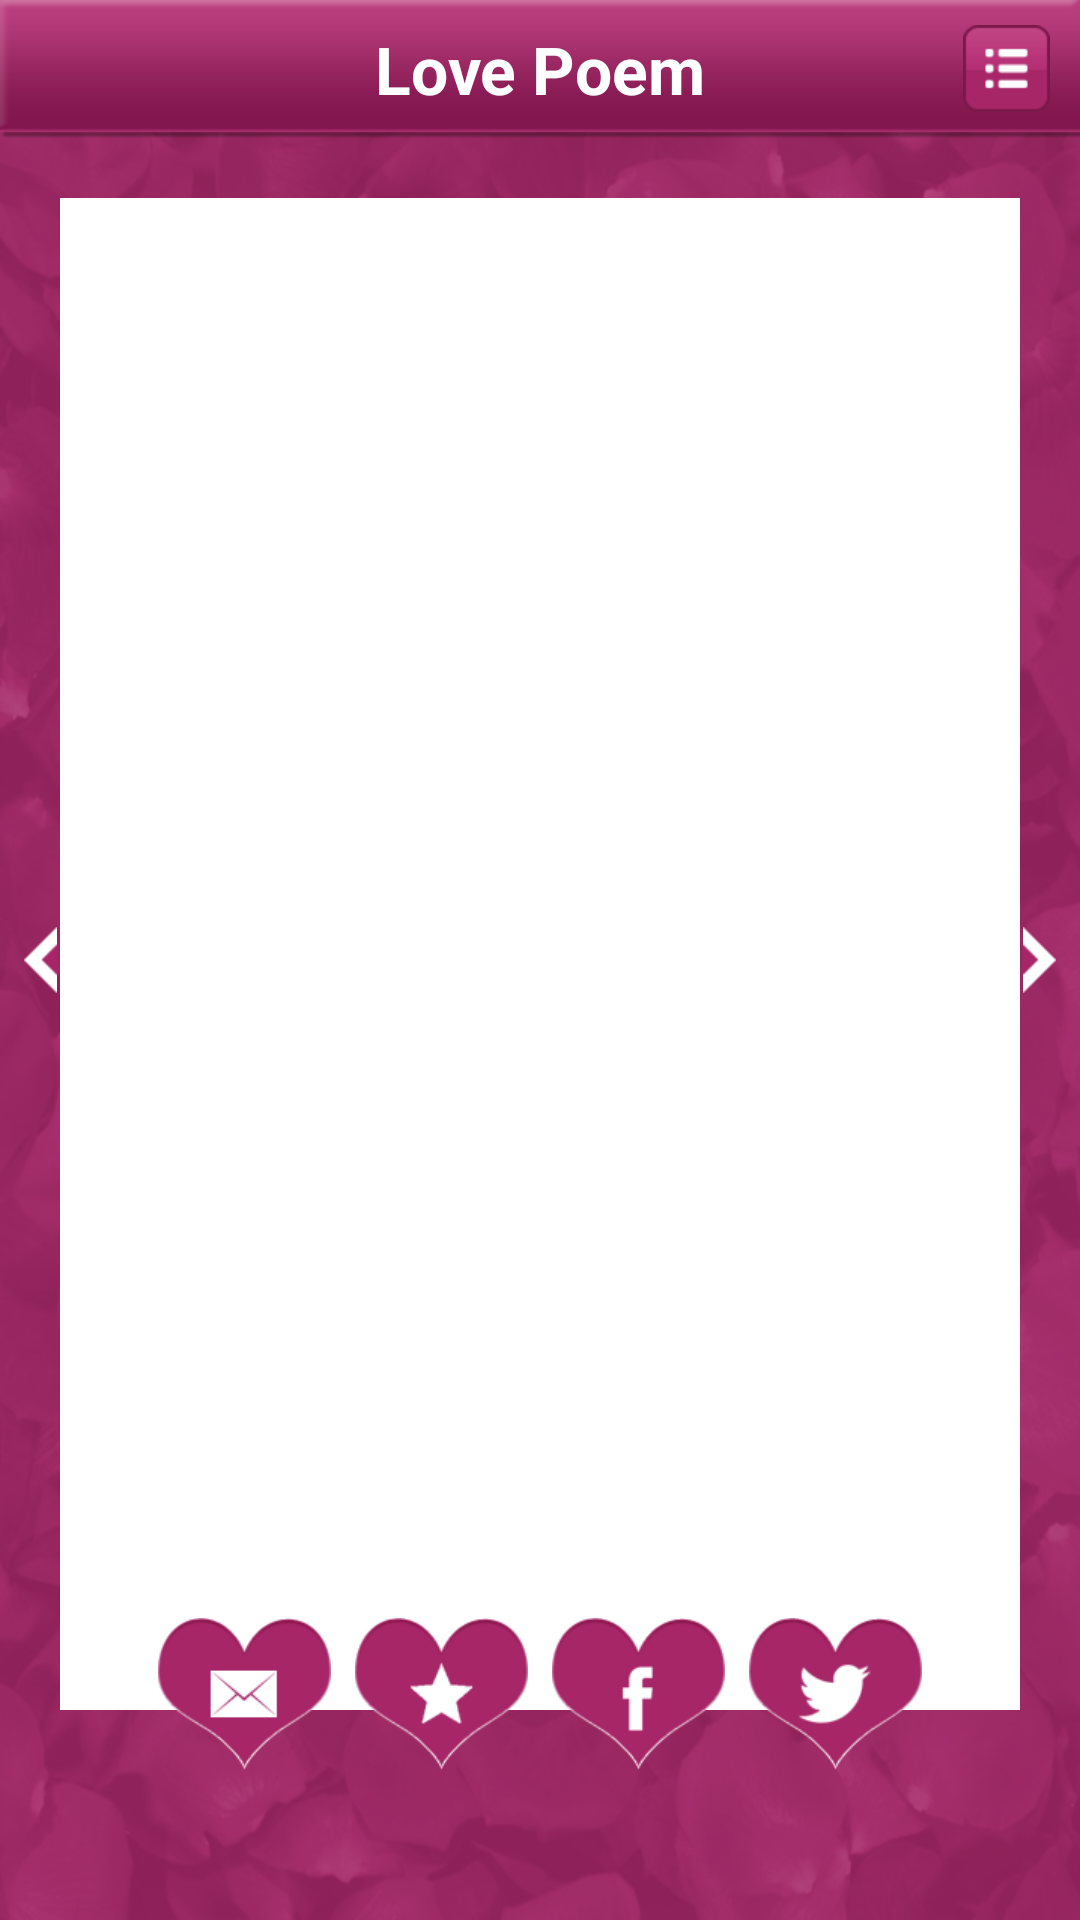

Point at icon controls on the screen. Image size 1080*1920, points as (x=x, y=y).
favorite: (x=441, y=1694)
list view: (x=1006, y=68)
sendsms: (x=244, y=1694)
